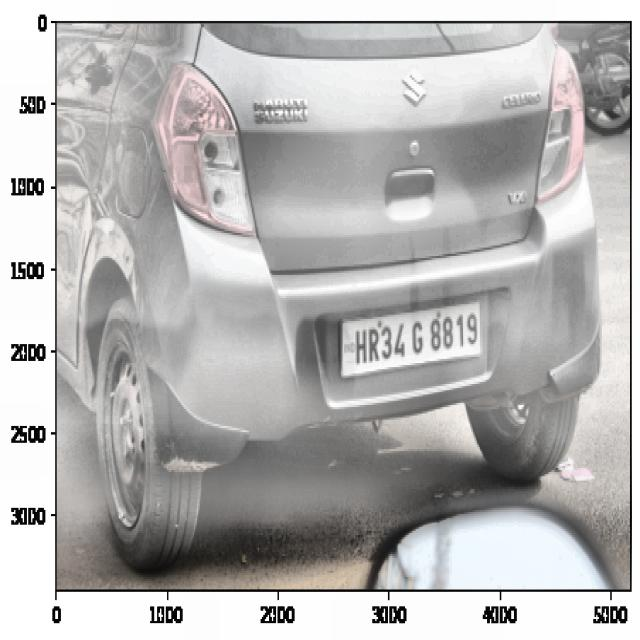license_plate: (349, 308, 485, 371)
